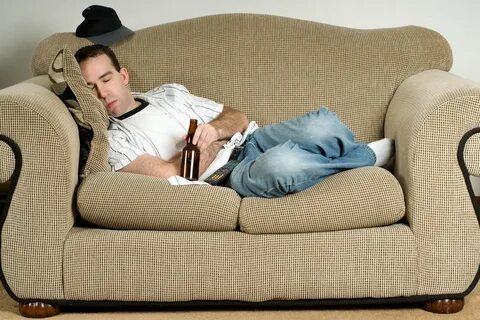sleep: (73, 47, 395, 195)
